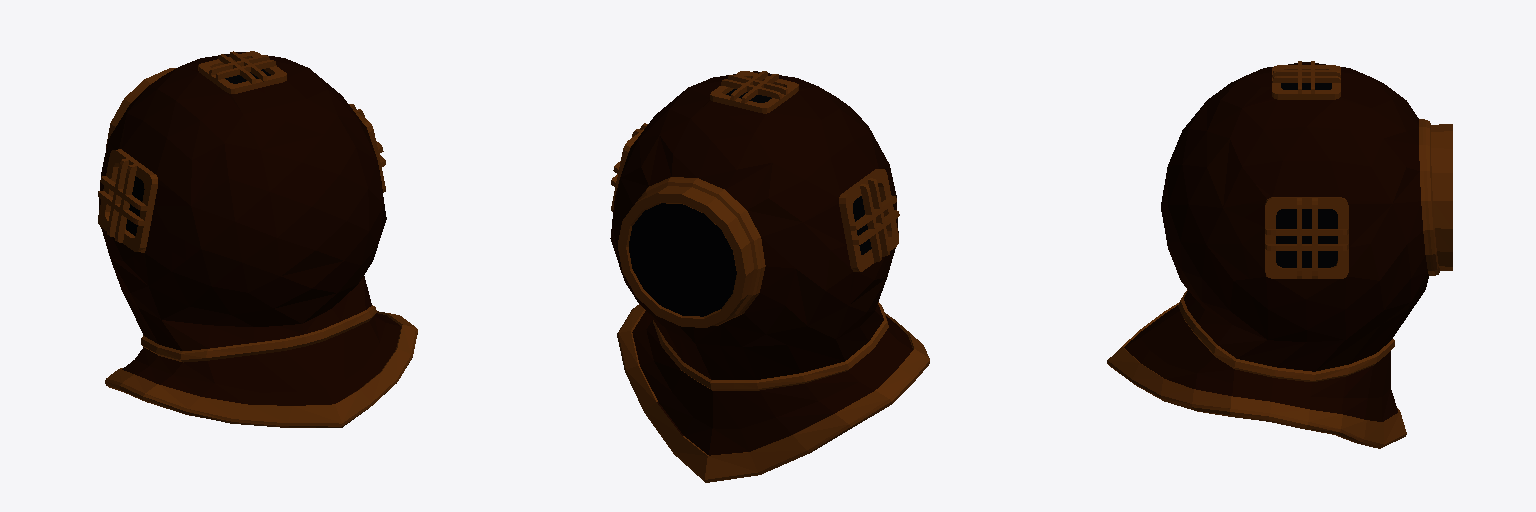
The model's file is diver_oldschool.sgm.obj.
The picture shows the model from 3 angles: view 1: azimuth 30°, elevation 25°; view 2: azimuth 150°, elevation 25°; view 3: azimuth 270°, elevation 25°; orthographic projection.
Parts seen in each view (by area): view 1: 0, 1, 2; view 2: 0, 1, 2; view 3: 0, 1, 2.
Part boxes in pixels (left/top/right/bottom): 0: left=99, top=52, right=400, bottom=405; 1: left=98, top=51, right=417, bottom=427; 2: left=126, top=69, right=270, bottom=235; 0: left=610, top=71, right=912, bottom=455; 1: left=611, top=71, right=929, bottom=482; 2: left=629, top=89, right=871, bottom=316; 0: left=1124, top=62, right=1428, bottom=421; 1: left=1107, top=61, right=1452, bottom=448; 2: left=1276, top=83, right=1337, bottom=267.
Size of the model in its own units: 0.5587 by 0.6888 by 0.5921.